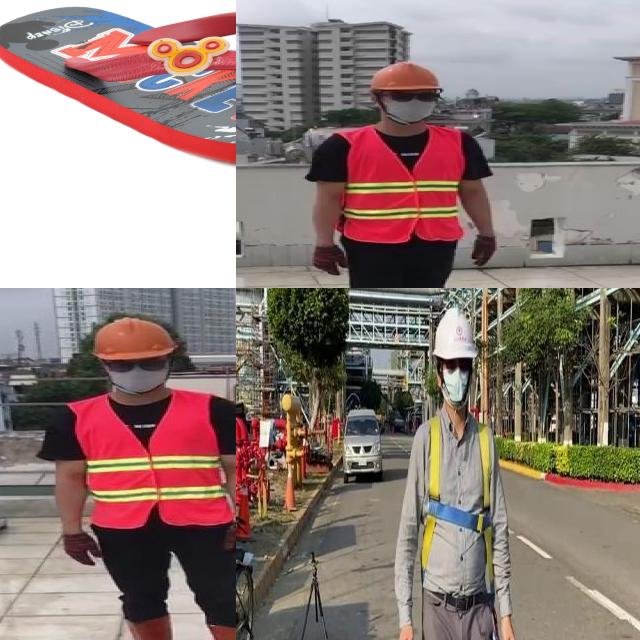Harness: (422, 414, 496, 594)
Sandals: (0, 5, 236, 170)
boots: (123, 609, 178, 640)
head_helmet: (91, 314, 183, 360), (364, 59, 446, 95)
person: (35, 312, 236, 640), (301, 59, 509, 288)
vest: (72, 393, 234, 527), (342, 127, 463, 242)
